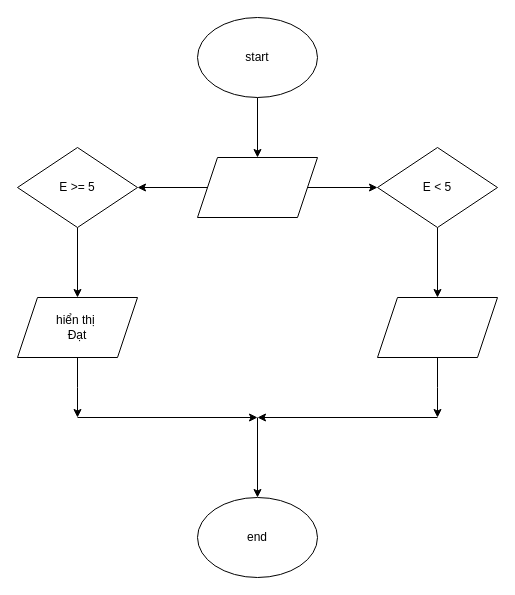
The diagram is 515 pixels wide and 595 high, and some of its shapes have lost their labels. Each missing label, with the centre of its shape:
"hiển thị Không đạt" goes at point (437, 327).
"nhập số điểm E" goes at point (257, 187).
